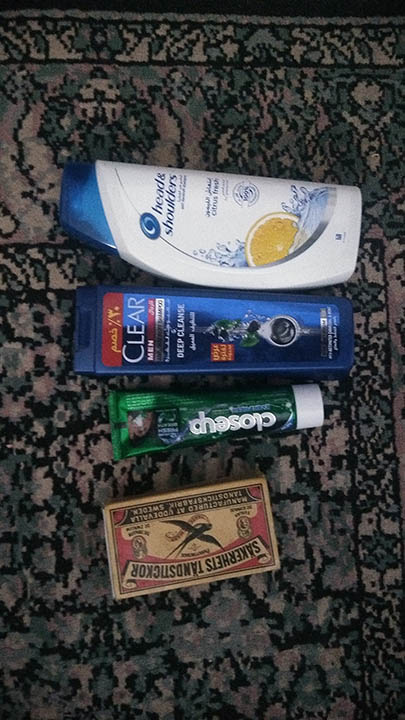Shampoo-Clear 4.7$: (72, 285, 358, 375)
Toothpaste-Closeup 3.04$: (108, 383, 328, 462)
match-sticks .90$: (84, 470, 299, 595)
shampoo-Lemon 3.5$: (48, 168, 379, 284)
